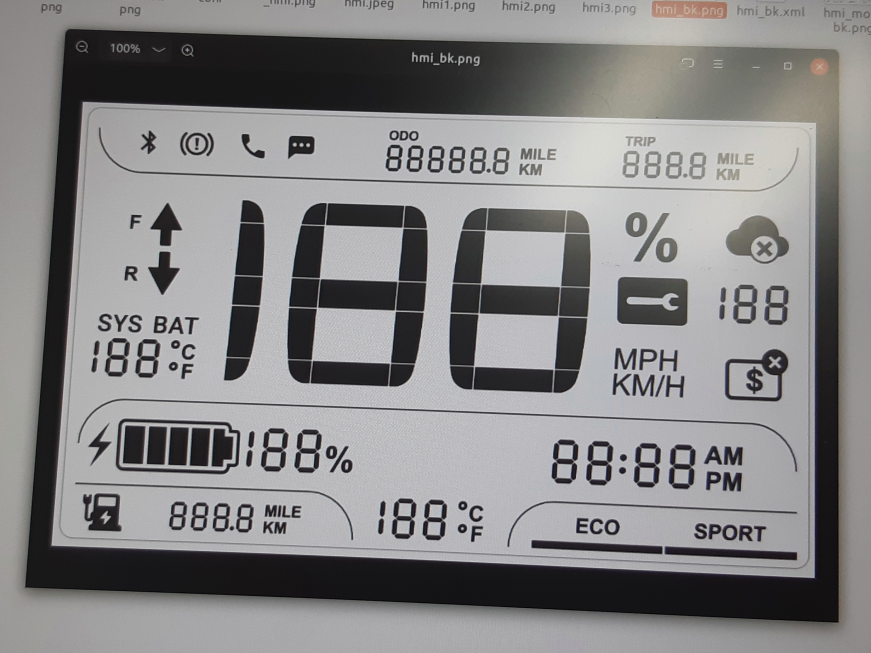bluetooth_on: (137, 127, 159, 157)
braking_on: (176, 129, 218, 161)
calling_on: (236, 130, 269, 163)
connection_lost: (723, 213, 793, 266)
error_code: (615, 274, 690, 330)
low_battery: (79, 488, 128, 536)
sms_on: (283, 133, 319, 162)
vin_id: (722, 347, 792, 405)
